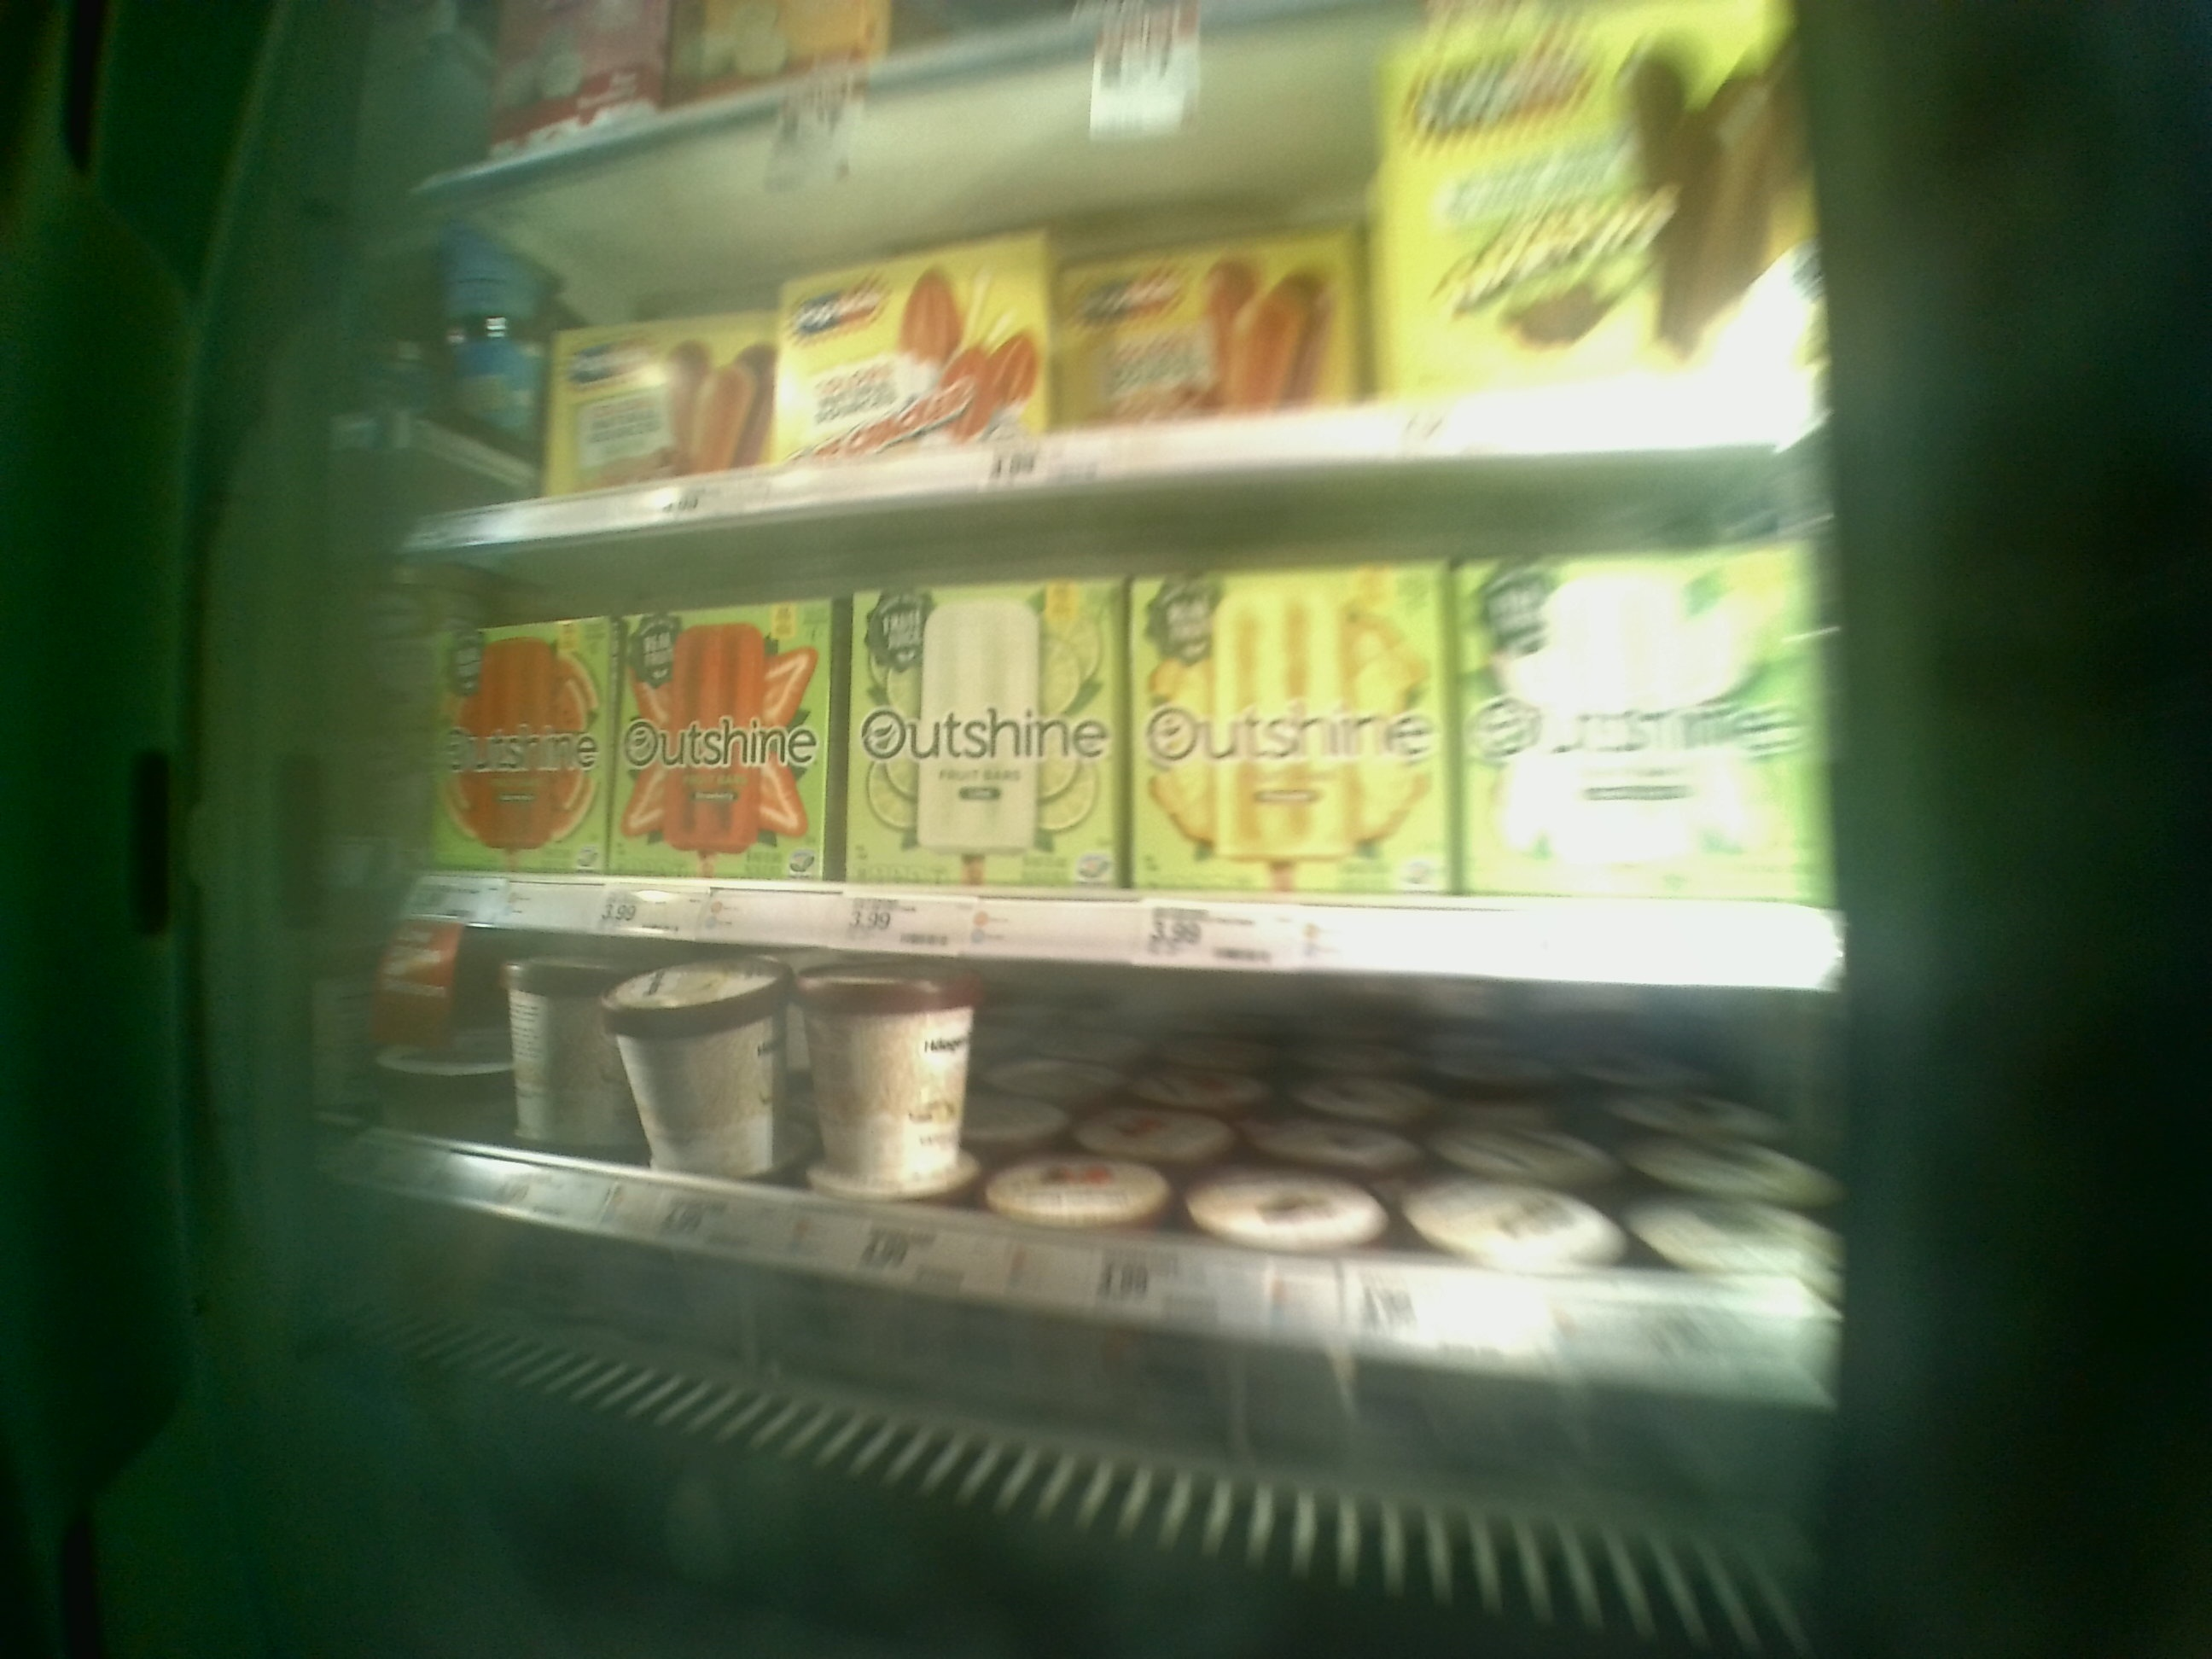shelf: (383, 927, 1850, 1464), (395, 443, 1838, 988)
